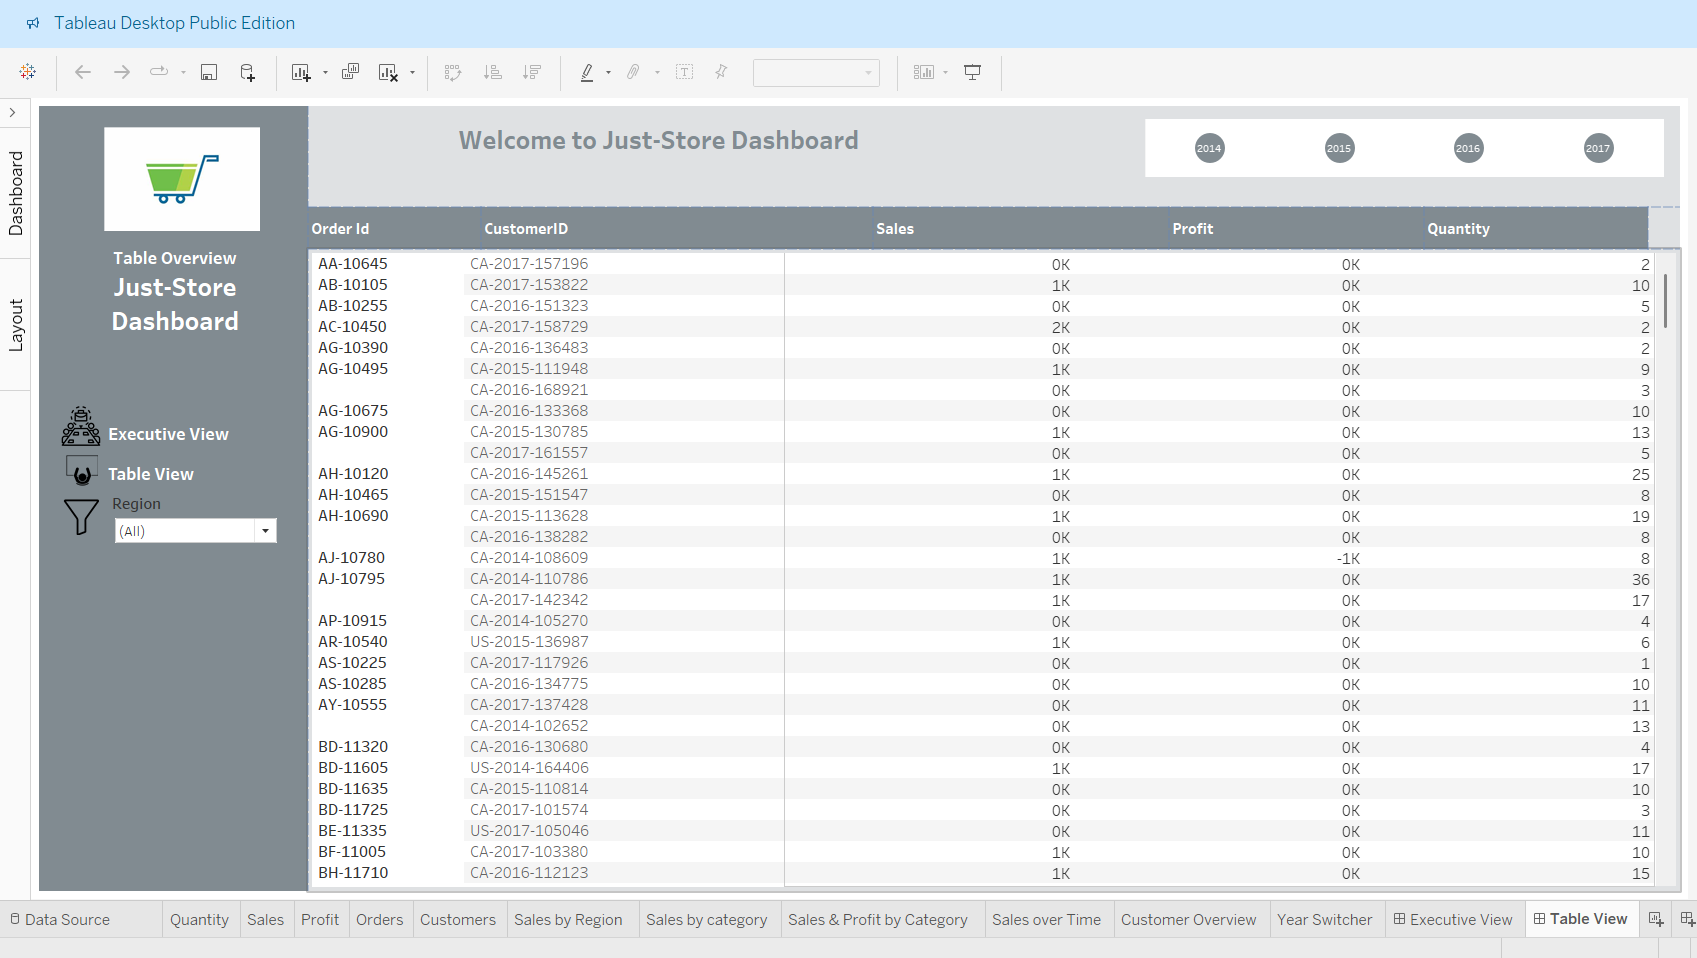

This screenshot's page, from the dashboard's own definition file:
{"tool":"tableau","page":{"name":"Table View ","canvas":[1657,801],"ordinal":1},"visuals":[{"type":"worksheet","title":"Year Switcher","mark":"Circle","rows":["Calculation_1697012649783328769"],"cols":["Order Date"],"box":[1114,21,519,58]},{"type":"text","box":[292,24,671,34]},{"type":"image","param":"Image/OIP 1.jpg","box":[73,29,171,104]},{"type":"text","box":[21,95,246,197]},{"type":"text","box":[277,109,173,42]},{"type":"text","box":[450,109,392,42]},{"type":"text","box":[842,109,296,42]},{"type":"text","box":[1138,109,255.5,42]},{"type":"text","box":[1393.5,109,223.5,42]},{"type":"blank","box":[1617,109,32,42]},{"type":"worksheet","title":"Customer Overview","mark":"Automatic","rows":["Customer ID","Order ID"],"box":[277,151,1372,642]},{"type":"image","param":"Image/occupation 1.png","box":[29,307,46,41]},{"type":"dashboard-object","box":[67,314,140,43]},{"type":"dashboard-object","box":[67,350,106,52]},{"type":"image","param":"Image/person 1.png","box":[35,356,41,32]},{"type":"filter","title":"Year Switcher","param":"[federated.14ybrop1ulrrly16rb6w915tas1z].[none:Region:nk]","box":[81,395,168,151]},{"type":"image","param":"Image/filter 1.png","box":[32,401,47,36]}]}

Visuals, with their boxes in screenshot pixels (x1, y1, x2, y2):
"Year Switcher" worksheet (Circle marks): box(1180, 110, 1696, 171)
text: box(319, 114, 1022, 149)
image: box(90, 119, 269, 228)
text: box(35, 188, 293, 394)
text: box(303, 203, 484, 247)
text: box(484, 203, 895, 247)
text: box(895, 203, 1205, 247)
text: box(1205, 203, 1472, 247)
text: box(1472, 203, 1696, 247)
"Customer Overview" worksheet: box(303, 247, 1696, 919)
image: box(44, 410, 92, 453)
dashboard-object: box(83, 417, 230, 462)
dashboard-object: box(83, 455, 194, 509)
image: box(50, 461, 93, 495)
"Year Switcher" filter: box(98, 502, 274, 660)
image: box(47, 508, 96, 546)
